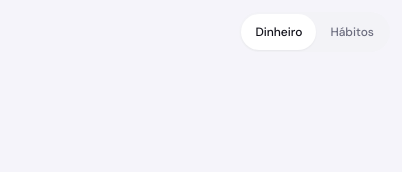
seletor Dinheiro | Hábitos nas telas financeiras › tocar em Hábitos lembra o modo e leva para /h/hoje
Step 1. Click the button "Hábitos" → (352, 32), box [316, 14, 388, 50]
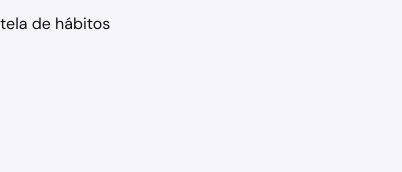
Now the text "tela de hábitos" is shown, box [0, 13, 110, 34]
